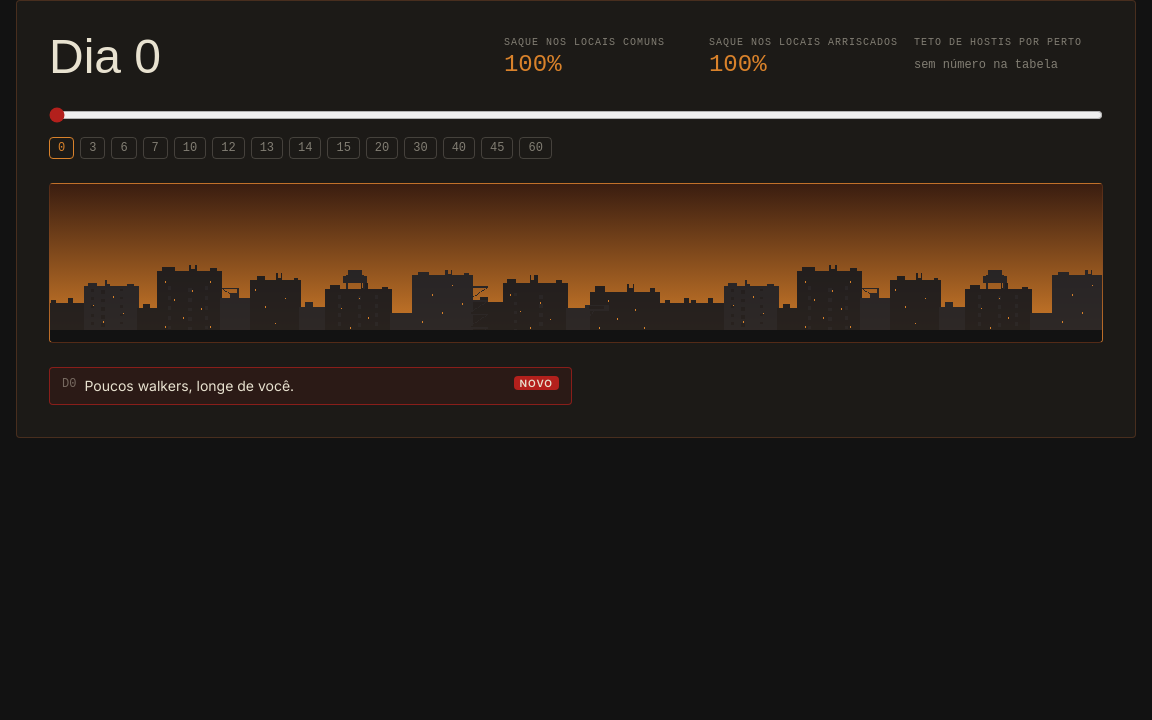
Scenario: DaySlider › shows how the world looks on the chosen day
The width and height of the screenshot is (1152, 720).
Set the slider named "dia" to "15" at x=316, y=115, box [49,107,1103,123]
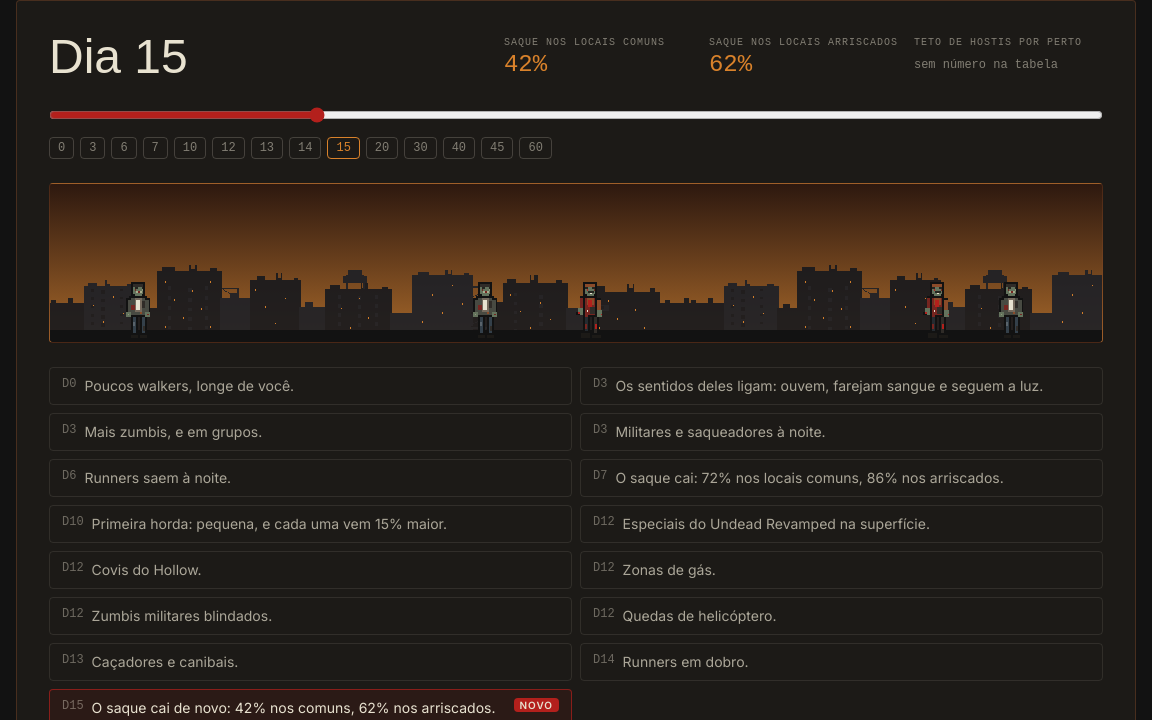
Check: the heading "Dia 15" is shown, box [49,33,188,81]
Check: the text "42%" is shown, box [504,51,547,78]
Check: the text "62%" is shown, box [709,51,752,78]
